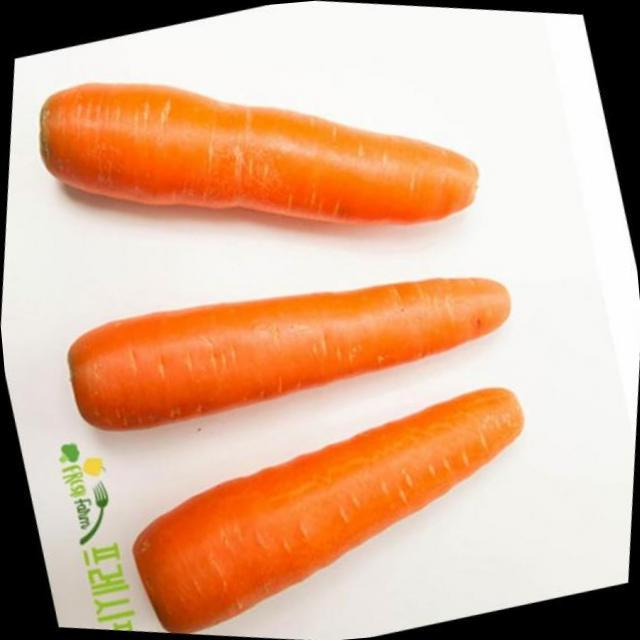carrot: (135, 389, 524, 632), (70, 279, 510, 429), (40, 84, 479, 222)
